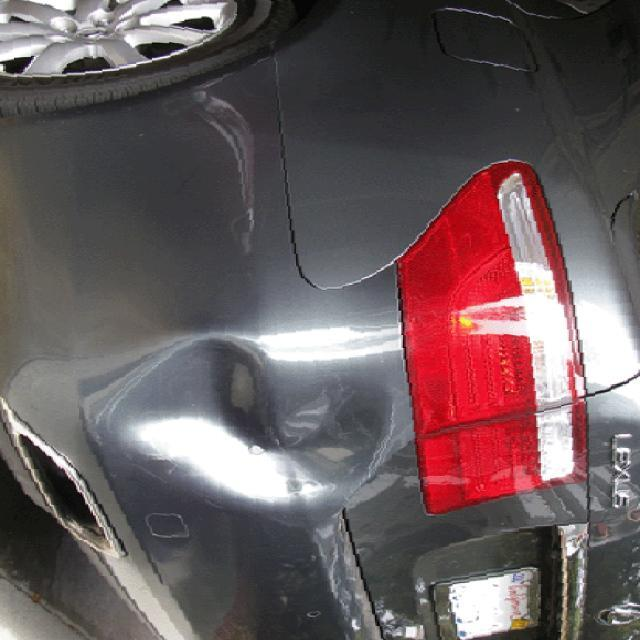dent: (95, 297, 382, 492)
